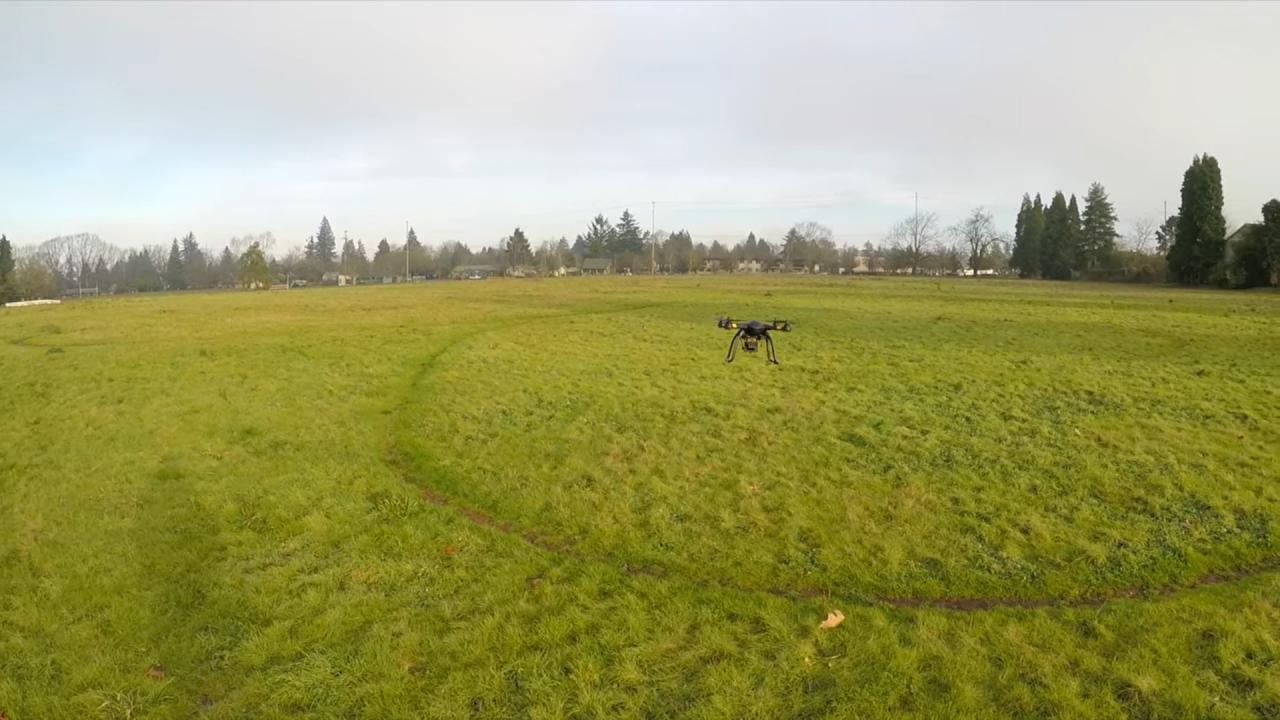Drone: (704, 308, 804, 375)
